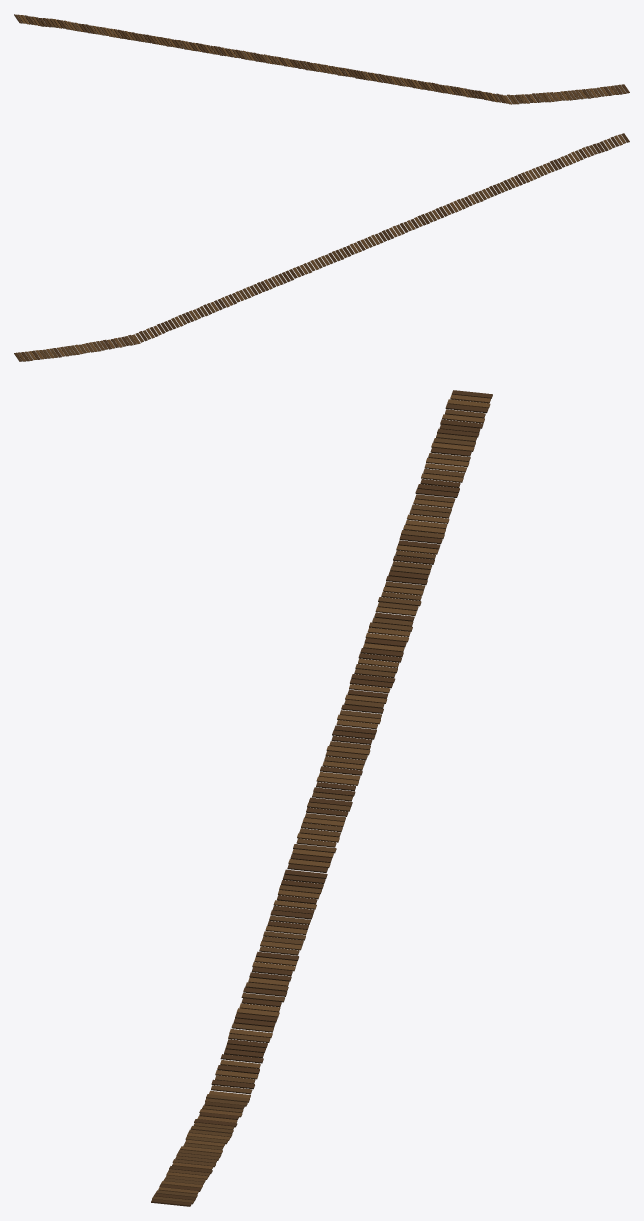
Rendered from SM_Bridge_17_18.fbx.
The picture shows the model from 3 angles, top to bottom: view 1: azimuth 30°, elevation 25°; view 2: azimuth 210°, elevation 25°; view 3: azimuth 270°, elevation 25°; orthographic projection. The views are drawn at different scales.
Parts seen in each view (by area): view 1: SM_Bridge_17_18; view 2: SM_Bridge_17_18; view 3: SM_Bridge_17_18.
Part boxes in pixels (bbox=[...]): SM_Bridge_17_18: bbox=[14, 14, 629, 104]; SM_Bridge_17_18: bbox=[14, 133, 629, 361]; SM_Bridge_17_18: bbox=[151, 390, 492, 1206].
Size of the model in its own units: 68.25 by 17.65 by 18.75.
